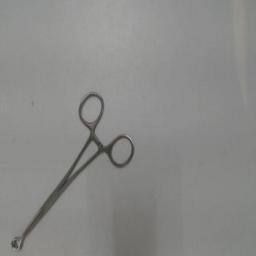Babcock Tissue Forceps: (10, 88, 136, 254)
